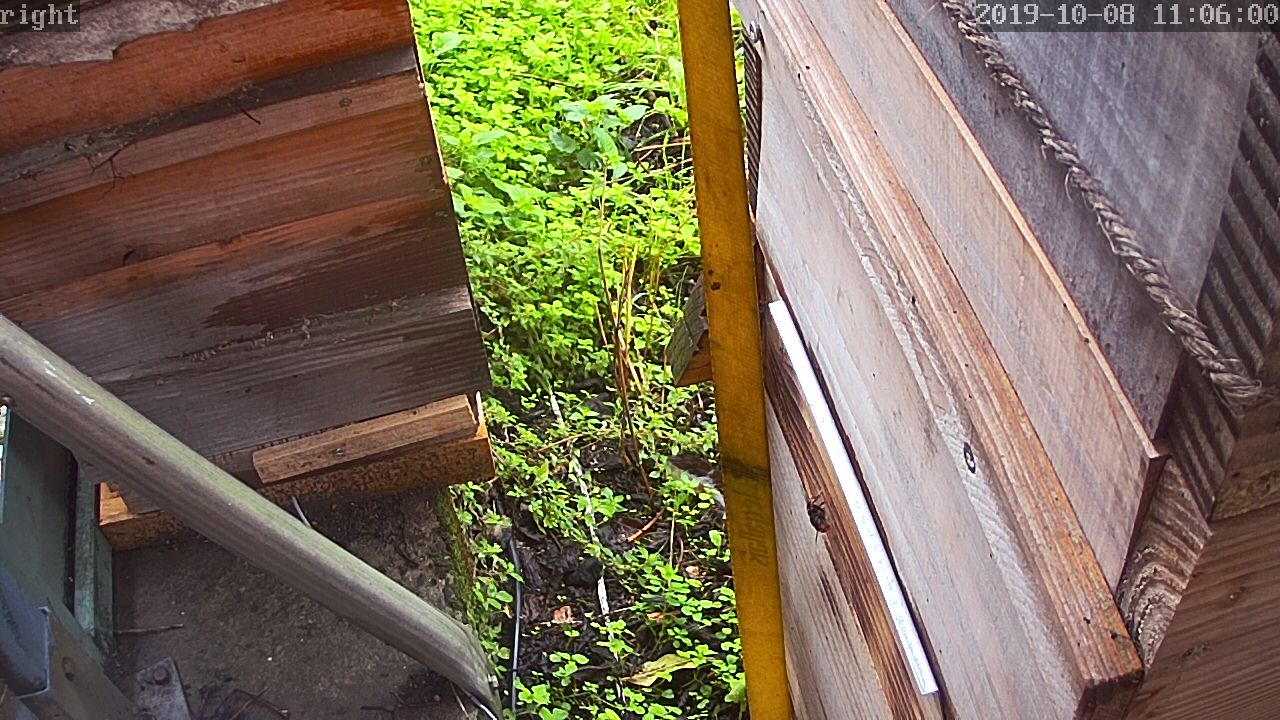bee: (804, 498, 843, 534)
